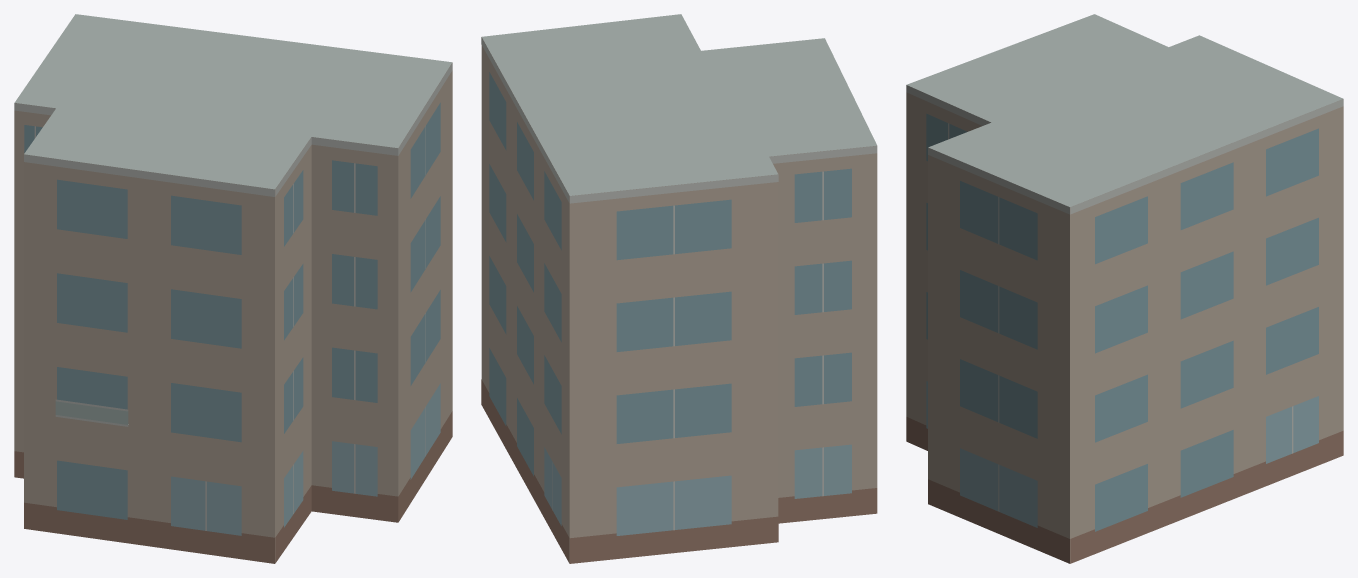
File: survey-upis-32563181.glb
The picture shows the model from 3 angles, left to right: view 1: azimuth 30°, elevation 25°; view 2: azimuth 150°, elevation 25°; view 3: azimuth 270°, elevation 25°; orthographic projection. The views are drawn at different scales.
Visible parts, largest first — view 1: survey-upis-32563181.tmp; view 2: survey-upis-32563181.tmp; view 3: survey-upis-32563181.tmp.
Boxes of the visible parts, left/top/right/bottom form: survey-upis-32563181.tmp: left=14, top=14, right=452, bottom=563; survey-upis-32563181.tmp: left=481, top=14, right=877, bottom=563; survey-upis-32563181.tmp: left=906, top=14, right=1343, bottom=563.
Bounding box in the file's own units: 13.72 × 11.8 × 13.12.
